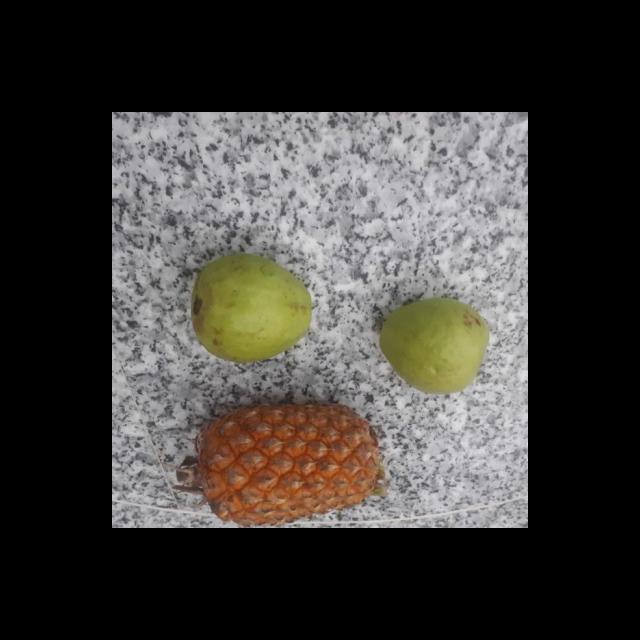guava: (185, 252, 307, 358), (374, 299, 490, 392)
pineapple: (184, 401, 385, 523)
